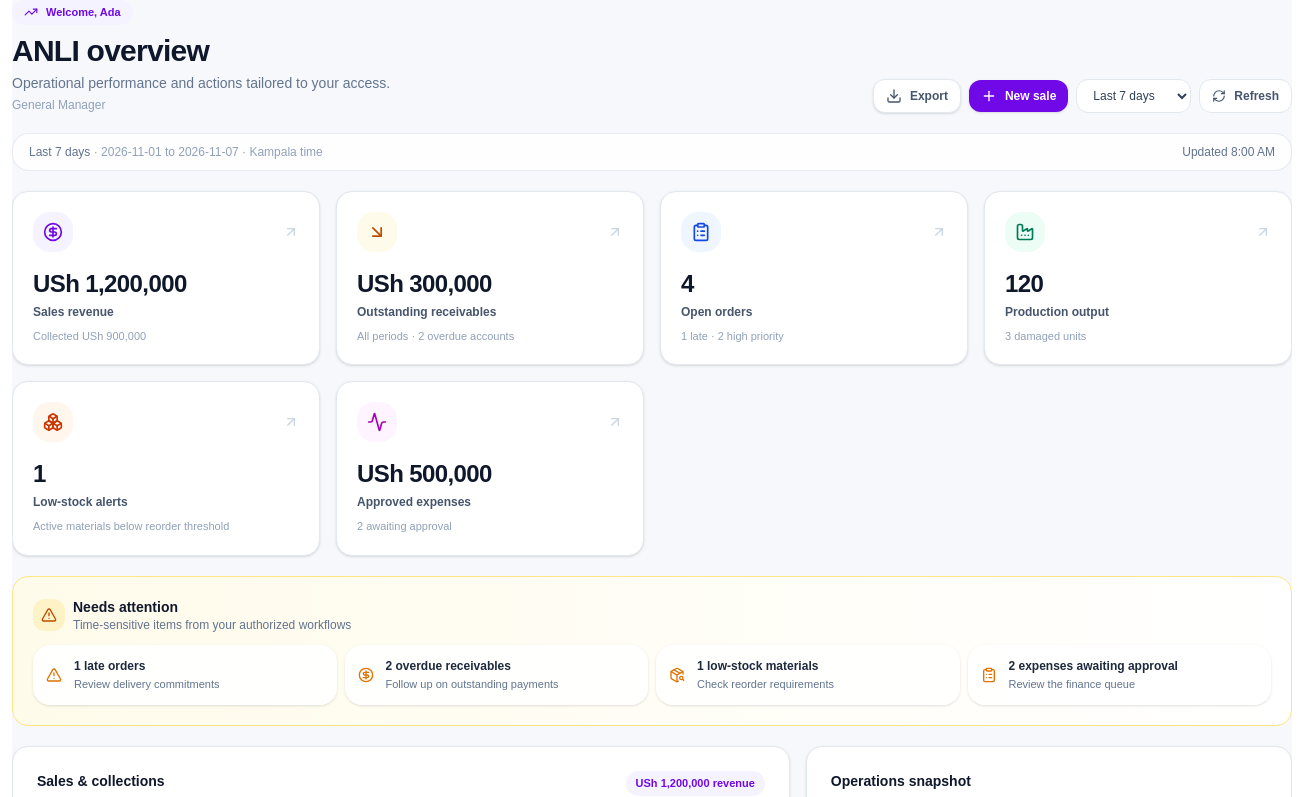
Test: live dashboard overview › keeps the last successful snapshot visible if a refresh fails
Check: the text "Sales revenue" is shown, box x1=33 y1=304 x2=114 y2=318
Click the button with aria-label "Refresh dashboard data".
click(1246, 96)  # box x1=1199 y1=78 x2=1292 y2=112
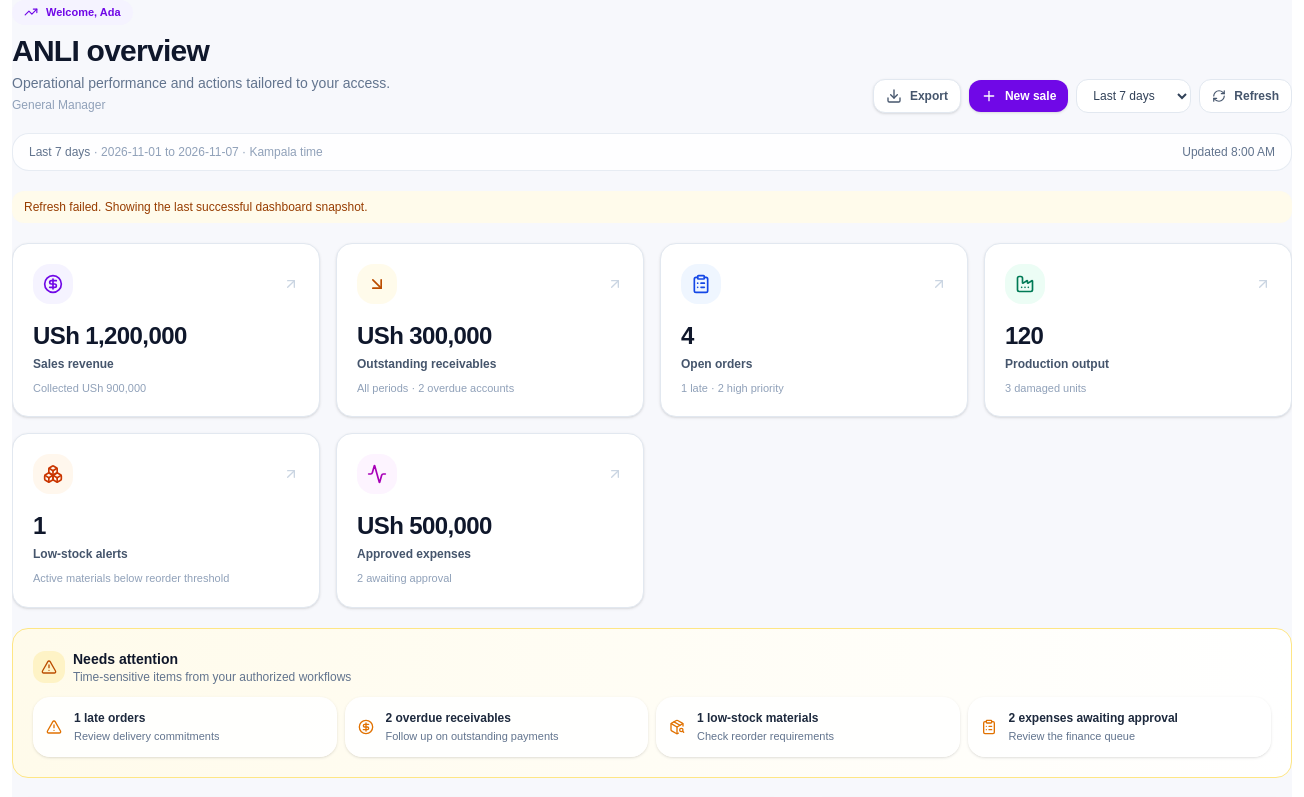
Check: the text "Sales revenue" is shown, box x1=33 y1=356 x2=114 y2=370
Check: the text "Refresh failed. Showing the last successful dashboard snapshot." is shown, box x1=12 y1=190 x2=1292 y2=222
